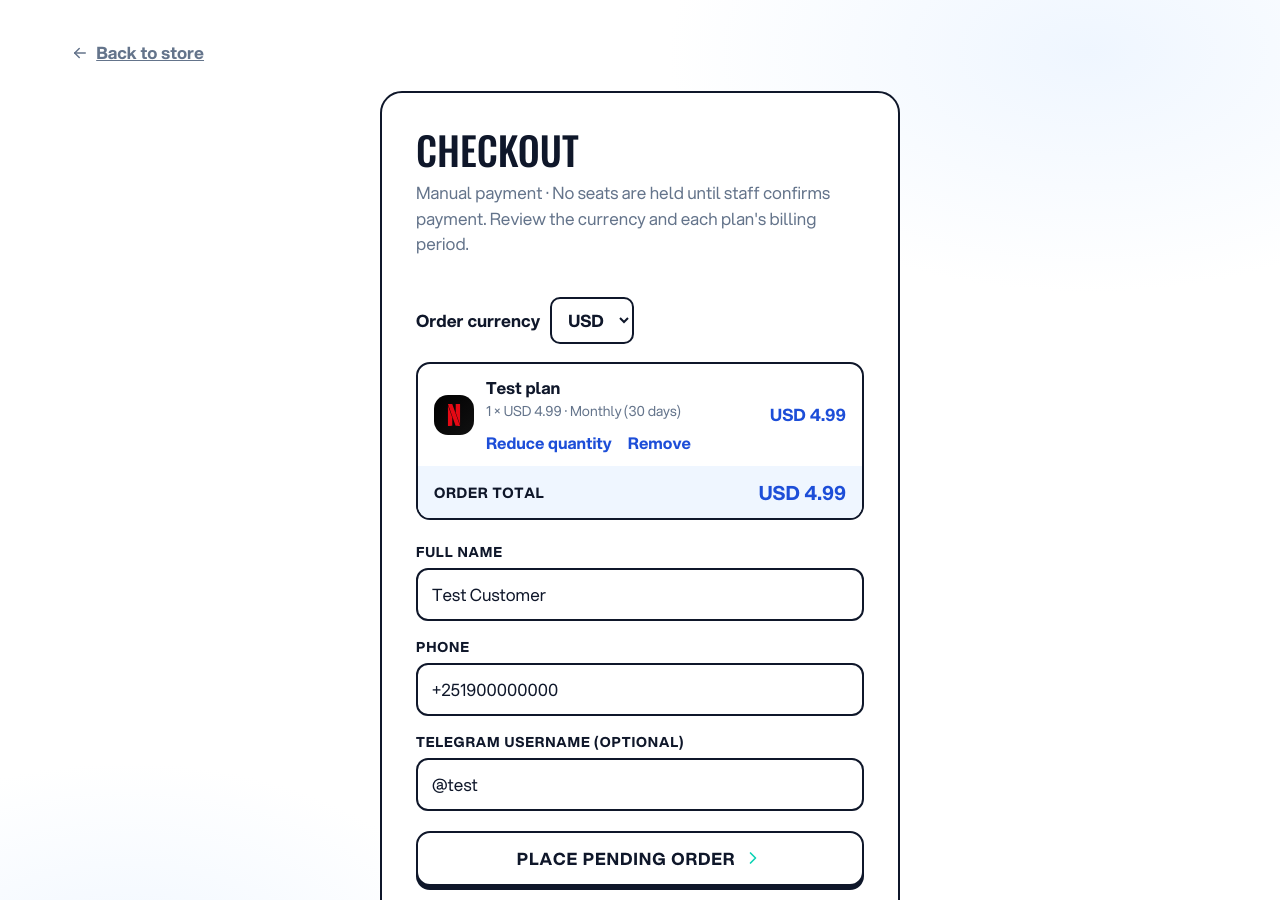
Test: durable, idempotent checkout › keeps database failure 23505 locked with its original key
Click the button "Place pending order": (640, 858) left=416, top=830, right=864, bottom=886
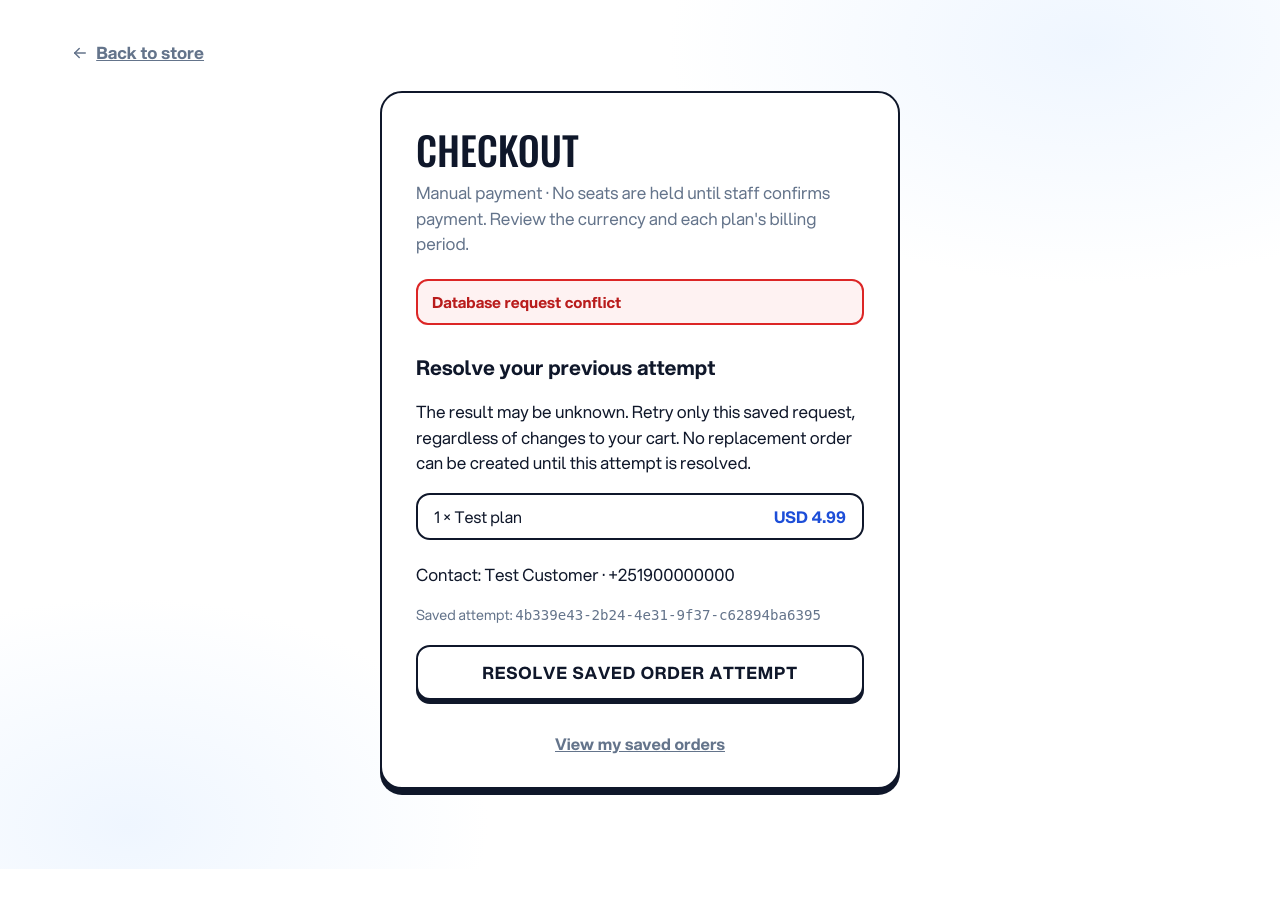
Result: the text "Database request conflict" is shown at left=416, top=278, right=864, bottom=324
